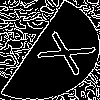X: (24, 25, 97, 77)
